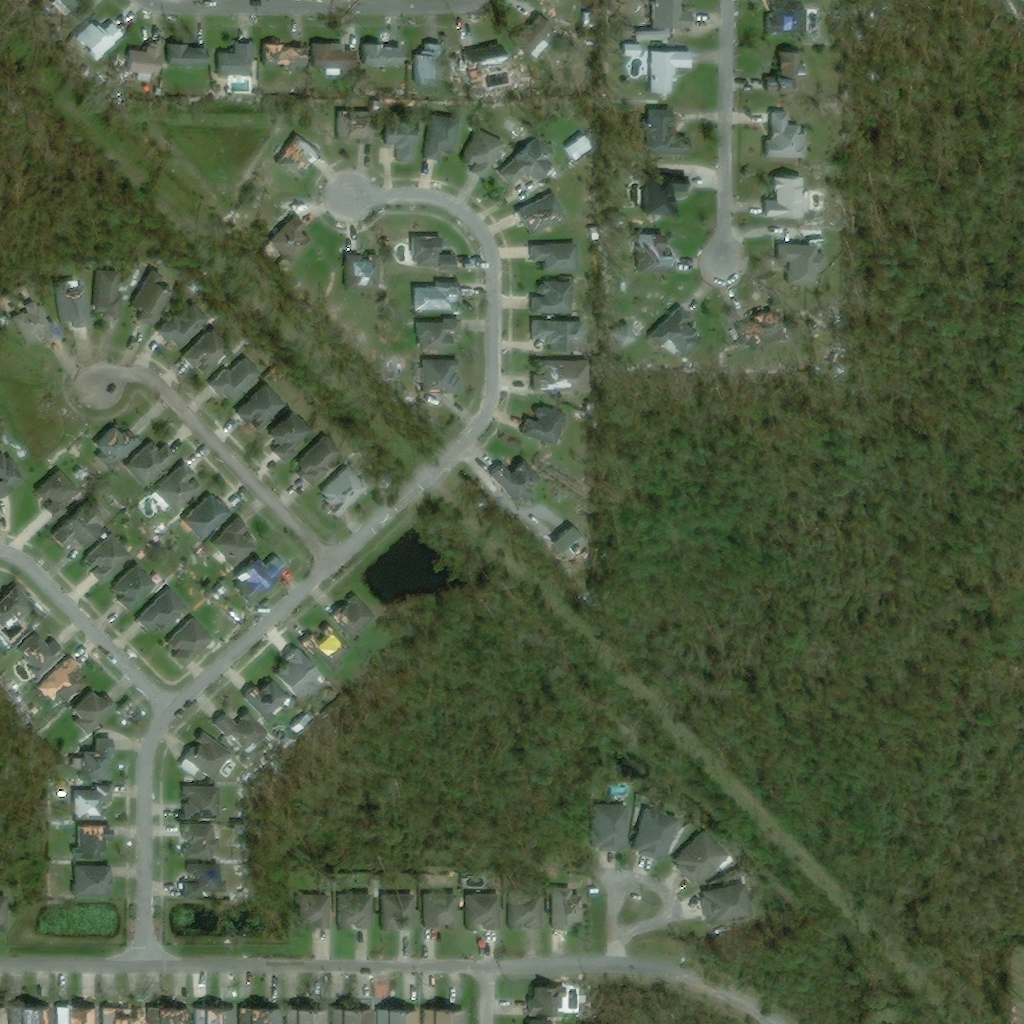destroyed: (463, 50, 505, 77)
minor_damage: (299, 623, 353, 674), (34, 468, 82, 521), (653, 303, 699, 358), (516, 191, 570, 236), (272, 134, 320, 182), (17, 633, 65, 681), (34, 654, 80, 703), (52, 507, 104, 550), (328, 593, 375, 640), (242, 679, 294, 719), (733, 306, 781, 348), (526, 359, 587, 392), (68, 737, 111, 782), (96, 424, 141, 465), (55, 278, 91, 329), (409, 237, 460, 271), (71, 783, 112, 822), (419, 319, 466, 353), (417, 358, 461, 390), (0, 588, 34, 627), (260, 42, 305, 71), (337, 111, 374, 145), (78, 826, 112, 858), (100, 1006, 145, 1023), (54, 1007, 99, 1023), (8, 1007, 52, 1023), (146, 1007, 190, 1023), (192, 1007, 236, 1023), (238, 1008, 281, 1023)
no_damage: (673, 826, 732, 884), (497, 134, 558, 188), (319, 462, 373, 520), (273, 646, 326, 700), (484, 457, 540, 508), (178, 731, 235, 781), (180, 327, 234, 378), (135, 586, 190, 636), (214, 707, 271, 755), (82, 533, 133, 586), (11, 298, 63, 349), (154, 462, 204, 515), (235, 555, 288, 605), (181, 493, 236, 541), (634, 808, 682, 862), (297, 434, 344, 489), (164, 616, 213, 668), (208, 356, 263, 402), (154, 303, 208, 349), (132, 267, 172, 329), (209, 517, 258, 567), (111, 563, 159, 614), (125, 442, 177, 488), (643, 106, 689, 157), (270, 410, 314, 463), (762, 110, 806, 162), (70, 690, 118, 736), (511, 12, 555, 62), (270, 214, 314, 264), (519, 406, 570, 447), (460, 128, 504, 175), (763, 176, 809, 220), (74, 21, 124, 61), (236, 383, 287, 422), (380, 109, 417, 162), (644, 173, 688, 217), (778, 244, 826, 282), (649, 51, 690, 94), (425, 112, 460, 162), (765, 49, 803, 95), (592, 805, 627, 853), (634, 233, 674, 274), (182, 861, 221, 899), (764, 0, 806, 35), (94, 268, 125, 315), (532, 321, 582, 350), (182, 823, 220, 860), (181, 785, 219, 822), (217, 42, 256, 78), (530, 244, 580, 272), (532, 280, 572, 315), (414, 281, 462, 310), (422, 893, 458, 931), (551, 886, 582, 930), (296, 894, 331, 932), (337, 893, 372, 931), (166, 37, 210, 67), (59, 0, 109, 26), (465, 894, 500, 931), (509, 894, 544, 931), (380, 894, 414, 932), (126, 42, 162, 77), (526, 986, 568, 1016), (75, 864, 112, 898), (412, 53, 444, 90), (358, 42, 405, 66), (651, 0, 690, 28), (551, 525, 584, 558), (0, 450, 23, 496), (347, 255, 377, 289), (311, 43, 349, 68), (611, 322, 636, 349), (565, 136, 592, 161), (330, 1009, 374, 1023), (426, 1008, 467, 1023), (285, 1009, 328, 1023), (376, 1009, 419, 1023), (632, 29, 668, 38), (407, 979, 419, 1002), (619, 43, 640, 56), (0, 895, 7, 933), (611, 787, 631, 800), (607, 209, 623, 222), (0, 1007, 7, 1023)
